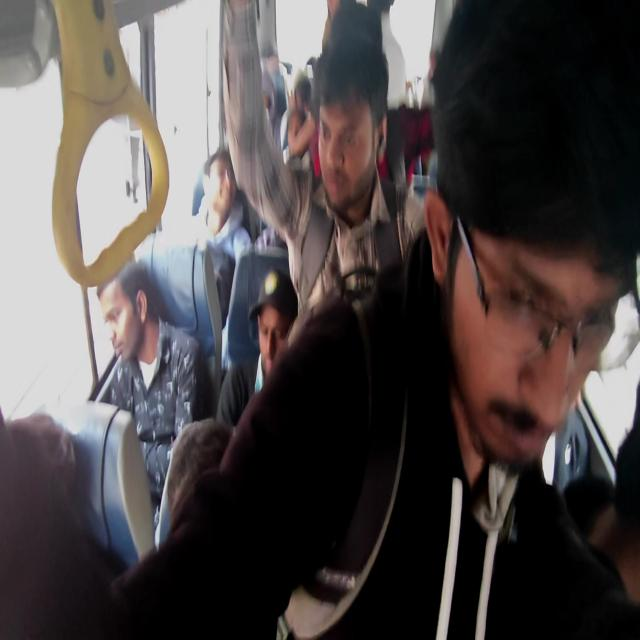person: (446, 66, 616, 584), (312, 51, 428, 267), (254, 264, 322, 430), (165, 434, 228, 610), (85, 272, 184, 374), (13, 444, 79, 595), (193, 144, 241, 209), (290, 77, 318, 146), (247, 78, 276, 140), (284, 120, 312, 167), (262, 36, 286, 78)
